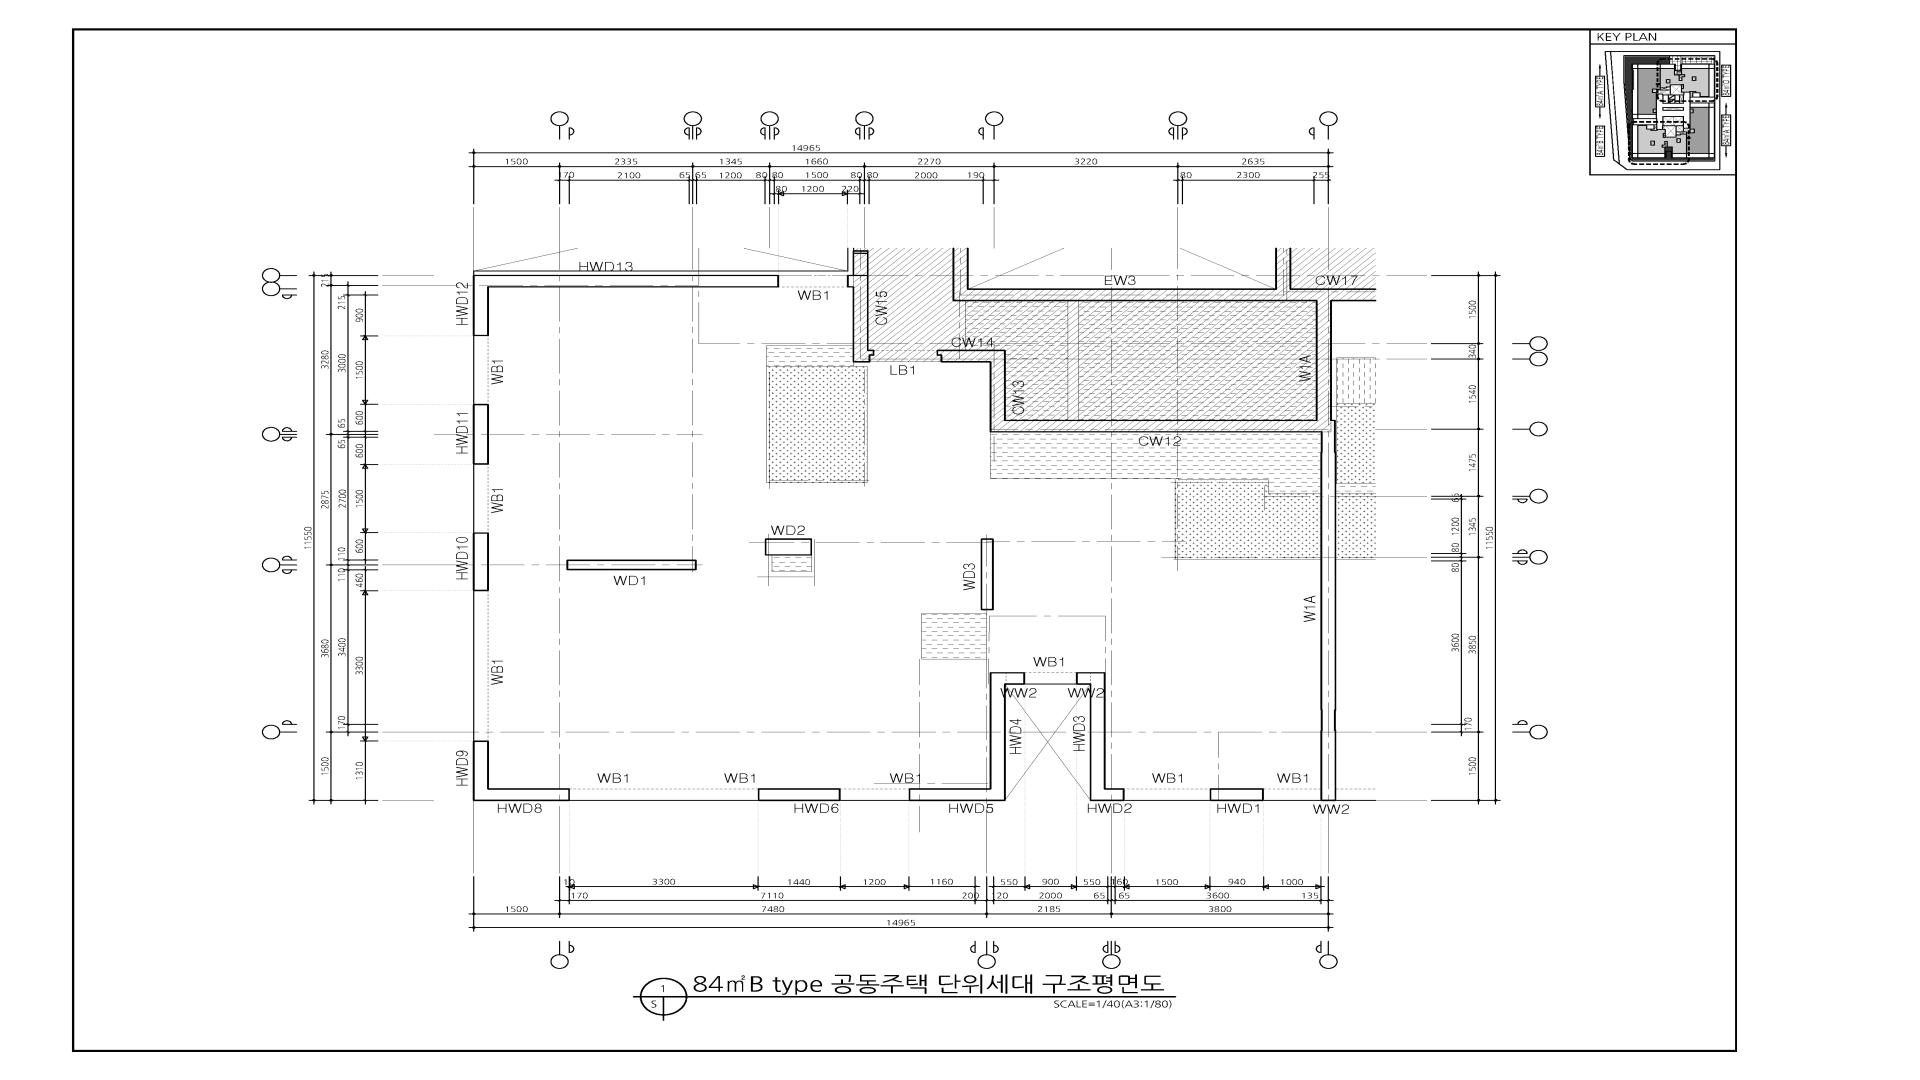wall: (937, 350, 1336, 432), (953, 248, 1376, 301), (473, 275, 779, 336), (909, 672, 1025, 801), (1076, 672, 1125, 801), (1320, 432, 1336, 801), (473, 741, 570, 801), (847, 251, 874, 362), (1315, 301, 1332, 420), (566, 560, 697, 570), (758, 788, 841, 801), (473, 404, 489, 465), (981, 538, 994, 610), (473, 533, 489, 591), (765, 538, 812, 556), (1210, 788, 1264, 801), (1275, 248, 1291, 288)
